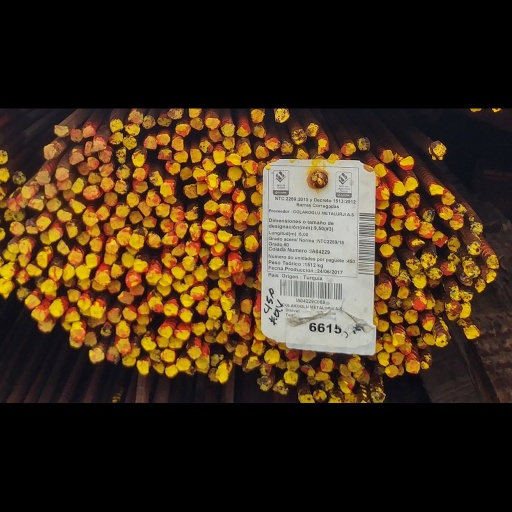dipstick: (336, 465, 354, 495), (173, 196, 189, 226), (16, 224, 32, 253), (115, 396, 131, 425), (120, 246, 134, 279), (144, 215, 161, 242), (375, 303, 392, 330), (128, 215, 143, 245), (187, 198, 202, 228), (439, 264, 457, 289), (410, 325, 428, 350), (114, 212, 130, 240), (263, 46, 279, 74), (244, 221, 260, 249), (144, 144, 161, 170), (88, 415, 105, 441), (217, 206, 232, 235), (182, 131, 200, 155), (67, 243, 83, 270), (404, 184, 420, 211), (155, 300, 172, 325), (122, 340, 137, 368), (186, 228, 201, 256), (99, 119, 115, 145), (374, 132, 390, 158), (181, 254, 197, 280), (264, 418, 280, 444), (463, 372, 479, 398), (0, 270, 16, 296), (232, 169, 249, 193), (125, 286, 142, 310), (75, 270, 90, 297), (141, 396, 156, 423), (202, 189, 218, 214), (48, 336, 64, 361), (106, 347, 122, 372), (94, 284, 110, 309), (419, 250, 435, 275), (445, 333, 461, 358), (104, 224, 118, 252), (421, 197, 435, 225), (124, 23, 141, 46), (114, 371, 131, 394), (42, 129, 57, 155), (197, 53, 212, 79), (225, 75, 240, 101), (68, 245, 83, 271), (70, 379, 85, 405), (465, 228, 480, 254), (25, 265, 41, 289), (186, 412, 202, 436), (189, 309, 205, 333), (420, 363, 436, 387), (463, 268, 479, 292), (143, 46, 157, 73), (399, 79, 413, 106), (204, 156, 218, 183), (39, 299, 57, 320), (145, 279, 159, 306), (135, 436, 149, 463), (235, 368, 249, 395), (433, 212, 447, 239), (406, 434, 420, 461), (61, 270, 74, 299), (159, 128, 174, 153), (200, 86, 215, 111), (228, 260, 243, 285), (411, 287, 426, 312), (205, 363, 222, 385), (52, 27, 68, 50), (67, 74, 83, 97), (102, 144, 118, 167), (189, 16, 205, 39), (340, 57, 356, 80), (164, 89, 180, 112), (24, 322, 40, 345), (243, 90, 259, 113), (116, 97, 130, 123), (10, 196, 24, 222), (48, 202, 62, 228), (406, 146, 420, 172), (248, 144, 262, 170), (209, 255, 223, 281), (194, 271, 207, 299), (85, 387, 98, 415), (128, 2, 143, 26), (54, 102, 69, 126), (35, 188, 50, 212), (170, 169, 185, 193), (174, 376, 189, 400), (67, 159, 84, 180), (34, 110, 50, 132), (82, 182, 98, 204), (404, 259, 420, 281), (71, 120, 84, 147), (431, 59, 444, 86), (196, 124, 209, 151), (235, 405, 248, 432), (141, 9, 155, 34), (192, 102, 206, 127), (185, 167, 199, 192), (178, 346, 192, 371), (160, 417, 174, 442), (82, 135, 97, 158), (220, 25, 235, 48), (236, 26, 251, 49), (156, 66, 171, 89), (159, 192, 174, 215), (84, 251, 99, 274), (31, 345, 46, 368), (117, 316, 132, 339), (161, 252, 176, 275), (374, 336, 389, 359), (283, 456, 298, 479), (35, 249, 48, 275), (89, 223, 102, 249), (377, 419, 390, 445), (44, 61, 56, 89), (20, 131, 34, 155), (170, 50, 184, 74), (175, 24, 189, 48), (47, 275, 61, 299), (176, 432, 190, 456), (390, 165, 406, 186), (347, 432, 361, 456), (108, 18, 123, 40), (142, 49, 157, 71), (114, 168, 129, 190), (254, 64, 269, 86), (226, 101, 241, 123), (171, 273, 186, 295), (163, 338, 178, 360), (388, 218, 403, 240), (243, 114, 258, 136), (123, 46, 136, 71), (131, 75, 144, 100), (115, 68, 128, 93), (115, 125, 128, 150), (76, 214, 89, 239), (189, 68, 202, 93), (77, 325, 90, 350), (251, 404, 264, 429), (486, 254, 499, 279), (447, 224, 460, 249), (436, 387, 449, 412), (196, 332, 209, 357), (240, 329, 252, 356), (172, 75, 189, 94), (29, 156, 43, 179), (125, 146, 139, 169), (389, 189, 403, 212), (167, 0, 183, 20), (157, 378, 173, 398), (312, 488, 328, 508), (274, 0, 289, 21), (211, 72, 226, 93), (218, 164, 233, 185), (65, 199, 78, 223), (157, 164, 170, 188), (67, 312, 80, 336), (317, 52, 330, 76), (45, 158, 59, 180), (56, 173, 70, 195), (91, 336, 102, 364), (217, 293, 231, 315), (191, 371, 205, 393), (207, 343, 221, 365), (384, 444, 398, 466), (228, 224, 242, 246), (132, 124, 147, 144), (129, 174, 141, 199), (204, 212, 216, 237), (167, 397, 182, 417), (450, 186, 462, 211), (484, 277, 496, 302), (405, 350, 417, 375), (320, 432, 332, 457), (251, 0, 264, 23), (380, 70, 393, 93), (231, 139, 244, 162), (380, 233, 393, 256), (439, 169, 452, 192), (257, 466, 270, 489), (222, 50, 235, 73), (391, 127, 405, 148), (211, 235, 225, 256), (69, 36, 82, 58), (179, 322, 192, 344), (423, 390, 436, 412), (131, 103, 146, 122), (218, 125, 233, 144), (99, 99, 113, 119), (428, 275, 442, 295), (92, 50, 104, 73), (97, 171, 109, 194), (238, 59, 250, 82), (58, 227, 69, 252), (374, 209, 385, 234), (108, 40, 121, 61), (88, 110, 101, 131), (144, 187, 157, 208), (247, 430, 260, 451), (314, 458, 330, 475), (203, 16, 218, 34), (87, 83, 99, 105), (406, 119, 417, 143), (442, 144, 454, 166), (470, 197, 482, 219), (82, 31, 95, 51), (307, 26, 320, 46), (165, 444, 178, 464), (375, 179, 386, 202), (179, 101, 191, 122), (111, 270, 123, 291), (156, 396, 170, 414), (196, 431, 208, 452), (209, 311, 221, 332), (388, 267, 400, 288), (393, 391, 403, 416), (375, 95, 386, 117), (6, 232, 18, 252), (134, 265, 147, 283), (429, 130, 442, 148), (8, 158, 19, 179), (357, 52, 369, 71), (376, 365, 388, 384), (243, 259, 253, 281), (449, 308, 459, 330), (397, 308, 408, 328), (216, 451, 226, 473), (122, 429, 134, 446), (410, 226, 421, 243)
